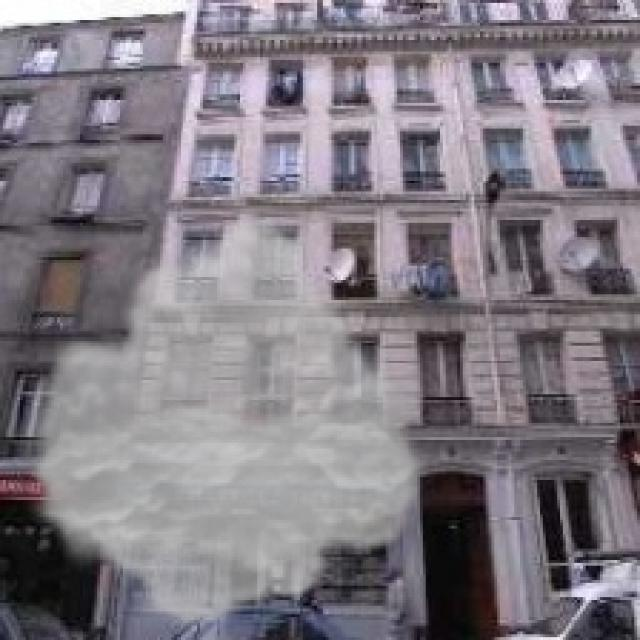smoke: (20, 208, 434, 632)
